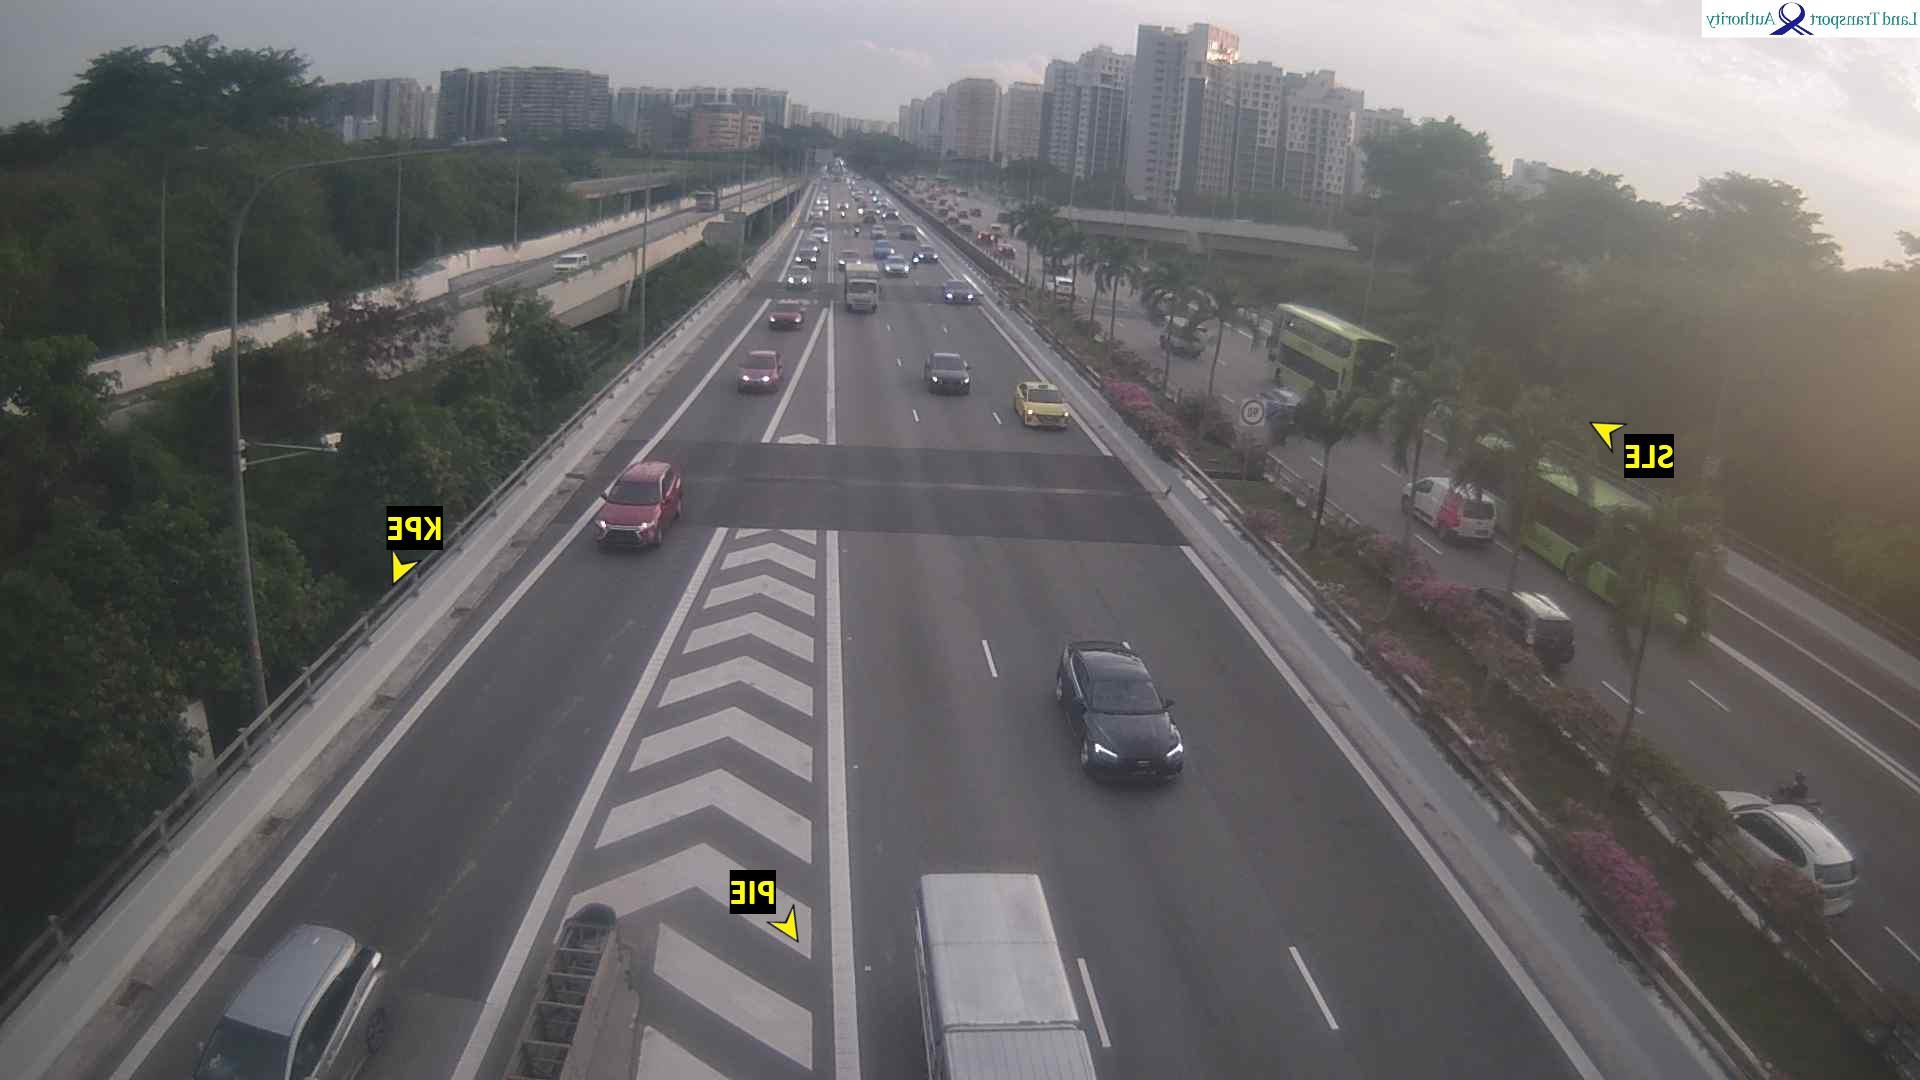incoming: (1081, 680, 1182, 782), (179, 1029, 299, 1080), (592, 476, 665, 553), (1022, 392, 1071, 433), (923, 357, 971, 394), (737, 357, 781, 390), (844, 280, 878, 314), (766, 303, 803, 331), (942, 284, 978, 306), (551, 256, 579, 277), (783, 269, 812, 289), (884, 258, 910, 280), (793, 251, 820, 266), (897, 223, 922, 239), (918, 248, 939, 265), (868, 225, 887, 240), (873, 244, 894, 256)
